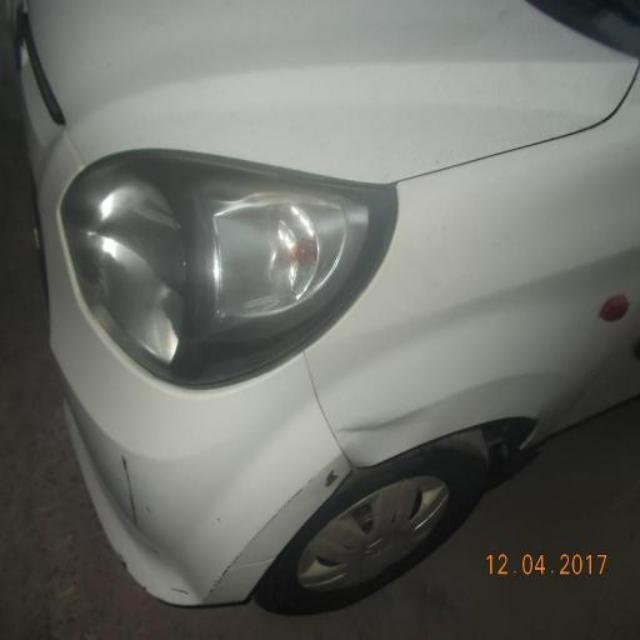crack: (117, 451, 146, 533), (322, 464, 342, 490)
